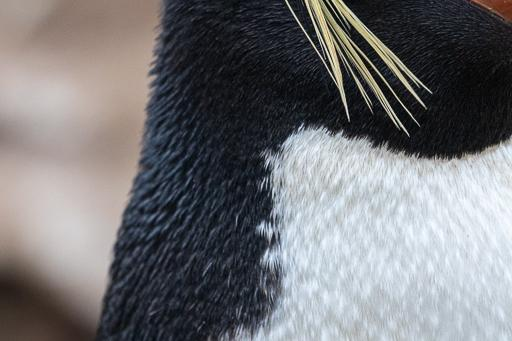Southern Rockhopper Penguin: (65, 0, 512, 327)
